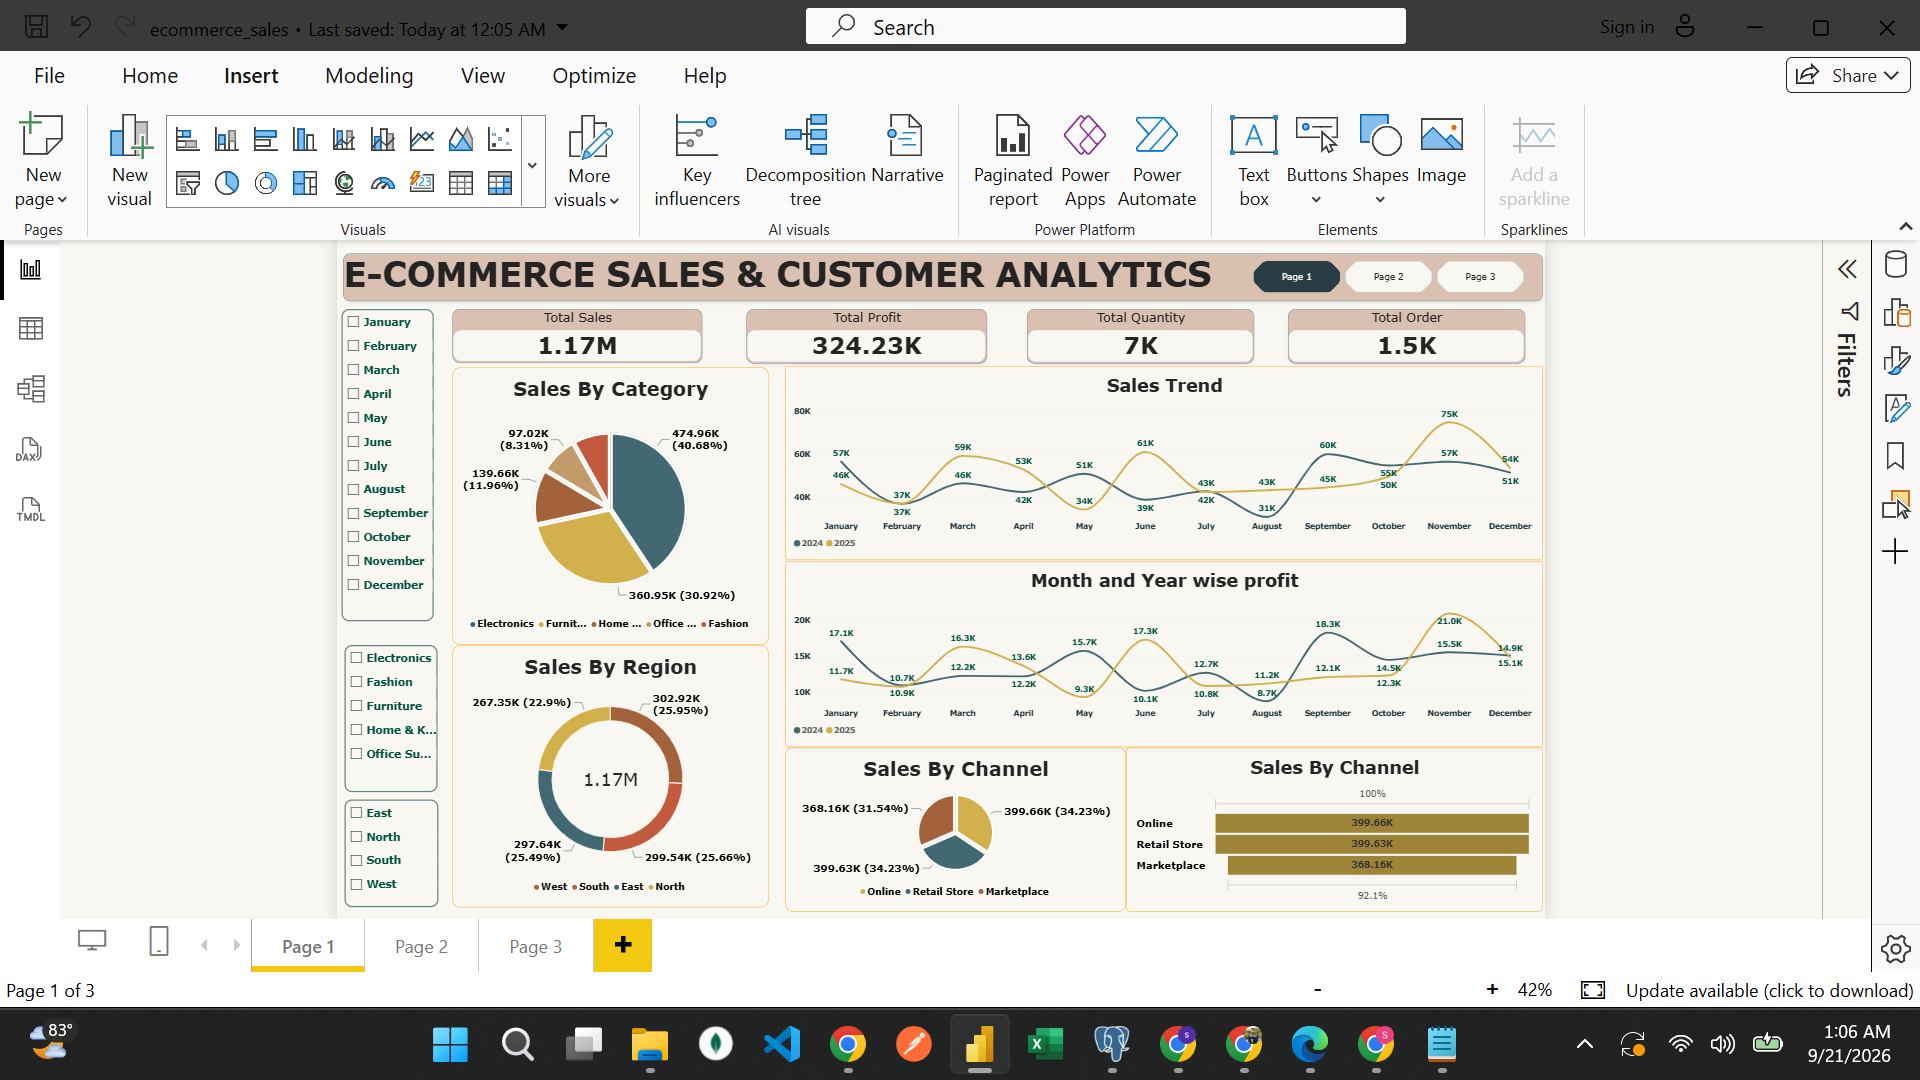

This screenshot's page, from the dashboard's own definition file:
{"tool":"powerbi","page":{"name":"Page 1","canvas":[1920,1080],"ordinal":0},"visuals":[{"type":"textbox","box":[9.1,21.2,1908.9,75.9],"z":0},{"type":"cardVisual","title":"Total Sales","fields":{"Data":["Sum(public ecommerce_sales.sales)"]},"box":[183.2,109.1,397.5,85.7],"z":1000},{"type":"cardVisual","title":"Total Profit","fields":{"Data":["Sum(public ecommerce_sales.profit)"]},"box":[651.5,108.6,382.7,86.9],"z":2000},{"type":"cardVisual","title":"Total Quantity","fields":{"Data":["Sum(public ecommerce_sales.quantity)"]},"box":[1096.6,108.6,361,86.9],"z":3000},{"type":"cardVisual","title":"Total Order","fields":{"Data":["CountNonNull(public ecommerce_sales.customer_id)"]},"box":[1511.9,108.6,377.3,86.9],"z":4000},{"type":"lineChart","title":"Sales Trend","fields":{"Category":["public ecommerce_sales.order_date.Variation.Date Hierarchy.Month"],"Series":["public ecommerce_sales.order_date.Variation.Date Hierarchy.Year"],"Y":["Sum(public ecommerce_sales.sales)"]},"box":[714.1,201.6,1204.7,308.5],"z":5000},{"type":"pieChart","title":" Sales By Category","fields":{"Category":["public ecommerce_sales.category"],"Y":["Sum(public ecommerce_sales.sales)"]},"box":[183.2,202.7,502.7,440.4],"z":6000},{"type":"donutChart","title":"Sales By Region","fields":{"Category":["public ecommerce_sales.region"],"Y":["Sum(public ecommerce_sales.sales)"]},"box":[183.2,643,502.7,417],"z":7000},{"type":"pieChart","title":"Sales By Channel","fields":{"Category":["public ecommerce_sales.sales_channel"],"Y":["Sum(public ecommerce_sales.sales)"]},"box":[714.1,806.4,541.6,262.3],"z":8000},{"type":"slicer","fields":{"Values":["public ecommerce_sales.order_date.Variation.Date Hierarchy.Month"]},"box":[8.1,108.6,146.6,496.7],"z":9000},{"type":"slicer","fields":{"Values":["public ecommerce_sales.category"]},"box":[10.9,643.3,148.1,233.8],"z":10000},{"type":"slicer","fields":{"Values":["public ecommerce_sales.region"]},"box":[10.9,890.3,149.3,171],"z":11000},{"type":"lineChart","title":"Month and Year wise profit","fields":{"Category":["public ecommerce_sales.order_date.Variation.Date Hierarchy.Month"],"Series":["public ecommerce_sales.order_date.Variation.Date Hierarchy.Year"],"Y":["Sum(public ecommerce_sales.profit)"]},"box":[714.1,510.1,1204.7,296.3],"z":12000},{"type":"funnel","title":"Sales By Channel","fields":{"Category":["public ecommerce_sales.sales_channel"],"Y":["Sum(public ecommerce_sales.sales)"]},"box":[1255.7,806.4,663.1,262.3],"z":13000},{"type":"pageNavigator","box":[1457.8,33.4,431.9,50.1],"z":13004}]}

Visuals, with their boxes on the page's 1920x1080 design canvas (x1, y1, x2, y2). These are canvas units, not pixel positions in the 1920x1080 screenshot, which may show the page scaled, cropped or inside an application window:
textbox: left=9, top=21, right=1918, bottom=97
"Total Sales" cardVisual: left=183, top=109, right=581, bottom=195
"Total Profit" cardVisual: left=652, top=109, right=1034, bottom=196
"Total Quantity" cardVisual: left=1097, top=109, right=1458, bottom=196
"Total Order" cardVisual: left=1512, top=109, right=1889, bottom=196
"Sales Trend" lineChart: left=714, top=202, right=1919, bottom=510
" Sales By Category" pieChart: left=183, top=203, right=686, bottom=643
"Sales By Region" donutChart: left=183, top=643, right=686, bottom=1060
"Sales By Channel" pieChart: left=714, top=806, right=1256, bottom=1069
slicer - public ecommerce_sales.order_date.Variation.Date Hierarchy.Month: left=8, top=109, right=155, bottom=605
slicer - public ecommerce_sales.category: left=11, top=643, right=159, bottom=877
slicer - public ecommerce_sales.region: left=11, top=890, right=160, bottom=1061
"Month and Year wise profit" lineChart: left=714, top=510, right=1919, bottom=806
"Sales By Channel" funnel: left=1256, top=806, right=1919, bottom=1069
pageNavigator: left=1458, top=33, right=1890, bottom=84
